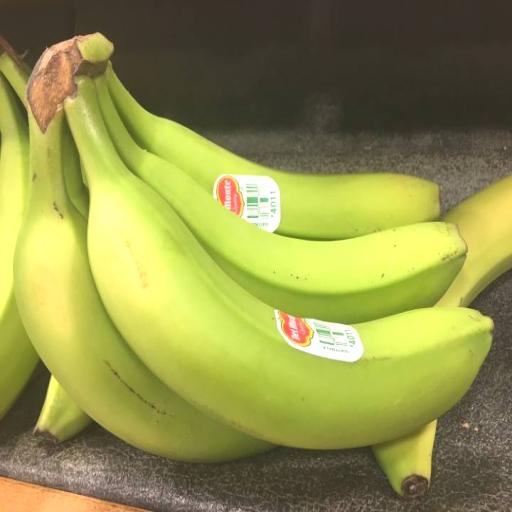banana-unripe: (16, 29, 509, 506)
